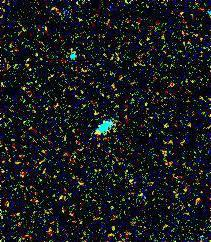star: (83, 117, 113, 147)
